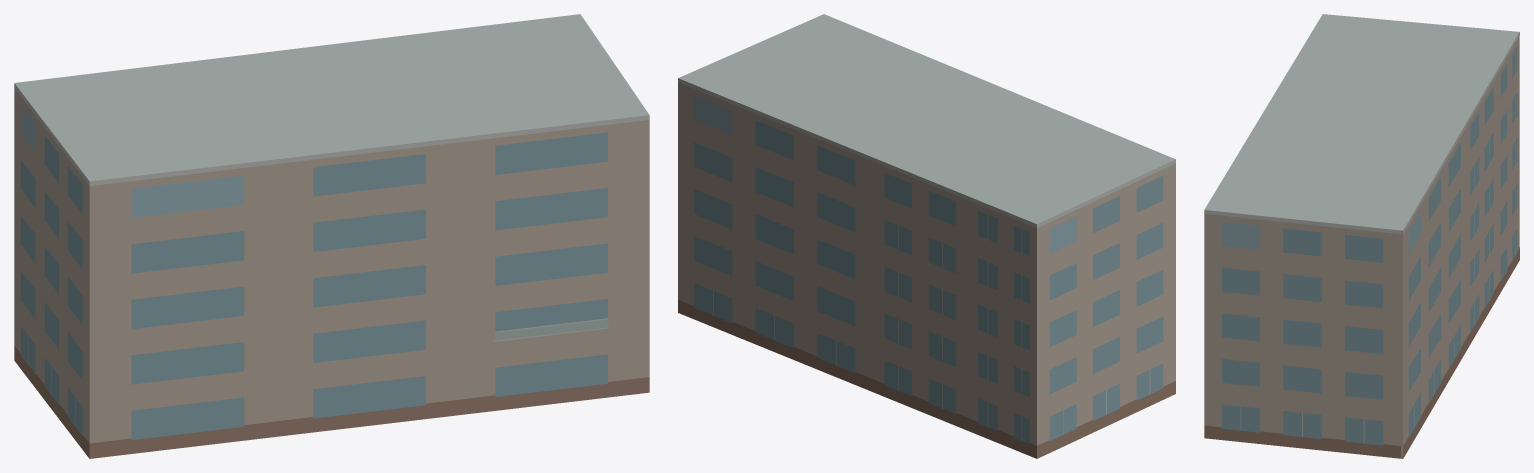
The model's file is survey-upis-32754198.glb.
3 renders of one model, left to right at view 1: azimuth 30°, elevation 25°; view 2: azimuth 150°, elevation 25°; view 3: azimuth 270°, elevation 25°, orthographic. The views are drawn at different scales.
Visible parts, largest first — view 1: survey-upis-32754198.tmp; view 2: survey-upis-32754198.tmp; view 3: survey-upis-32754198.tmp.
Part boxes in pixels (x1,y1,x2,y2): survey-upis-32754198.tmp: [14, 14, 649, 458]; survey-upis-32754198.tmp: [678, 14, 1175, 458]; survey-upis-32754198.tmp: [1204, 14, 1519, 458].
Bounding box in the file's own units: 29.12 × 14.3 × 17.93.
